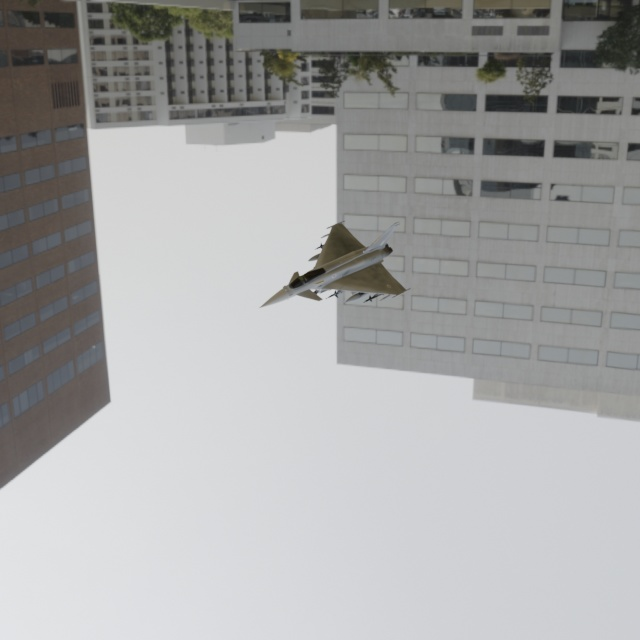eurofighter_typhoon_3d: (225, 187, 438, 363)
